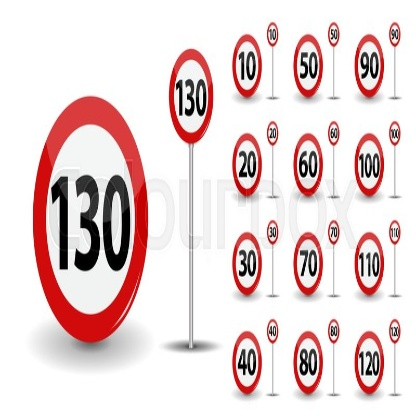limit2: (31, 95, 151, 346), (169, 44, 215, 147), (226, 131, 264, 199), (348, 131, 385, 198), (291, 32, 326, 100), (351, 231, 386, 299), (230, 32, 264, 101), (228, 230, 263, 297), (291, 128, 324, 199), (353, 32, 387, 100), (292, 229, 324, 298), (292, 330, 325, 396), (352, 329, 384, 397), (232, 329, 263, 397), (323, 22, 345, 48), (263, 220, 283, 246), (386, 220, 405, 246), (265, 21, 282, 48), (265, 120, 282, 146), (388, 316, 403, 344), (327, 121, 342, 147), (327, 219, 342, 245), (327, 318, 341, 345), (387, 21, 402, 46), (388, 121, 402, 147), (266, 318, 280, 344)
